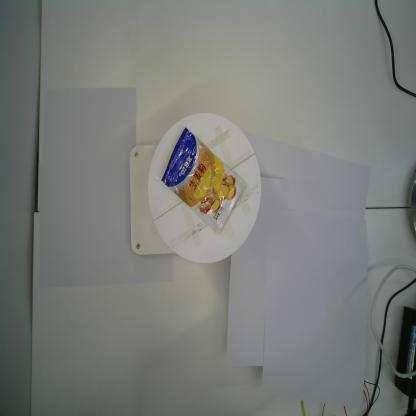Seasoner: (161, 127, 245, 234)
